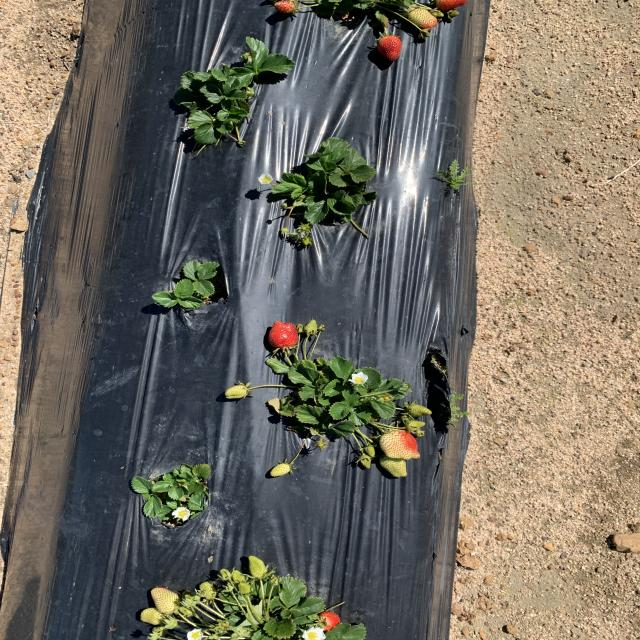unripe: (266, 321, 301, 350), (312, 604, 345, 632), (375, 35, 406, 63), (436, 0, 470, 10)
